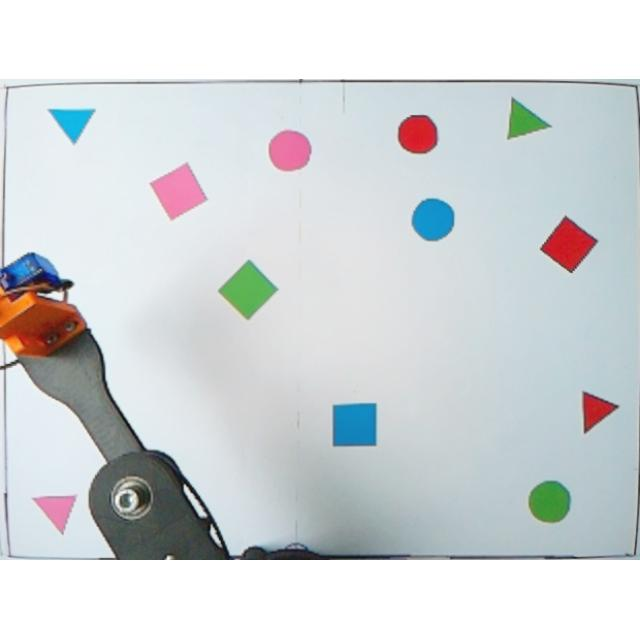blueCircle: (410, 198, 458, 246)
blueSquare: (330, 402, 378, 452)
blueTriangle: (46, 106, 98, 146)
greenCircle: (526, 481, 572, 527)
greenSquare: (217, 260, 281, 322)
greenTriangle: (500, 96, 554, 142)
pinkCircle: (266, 130, 314, 174)
pinkSquare: (148, 161, 212, 225)
pinkTriangle: (30, 492, 78, 538)
redCircle: (396, 112, 440, 158)
redSquare: (538, 214, 600, 276)
redTriangle: (577, 388, 621, 438)
